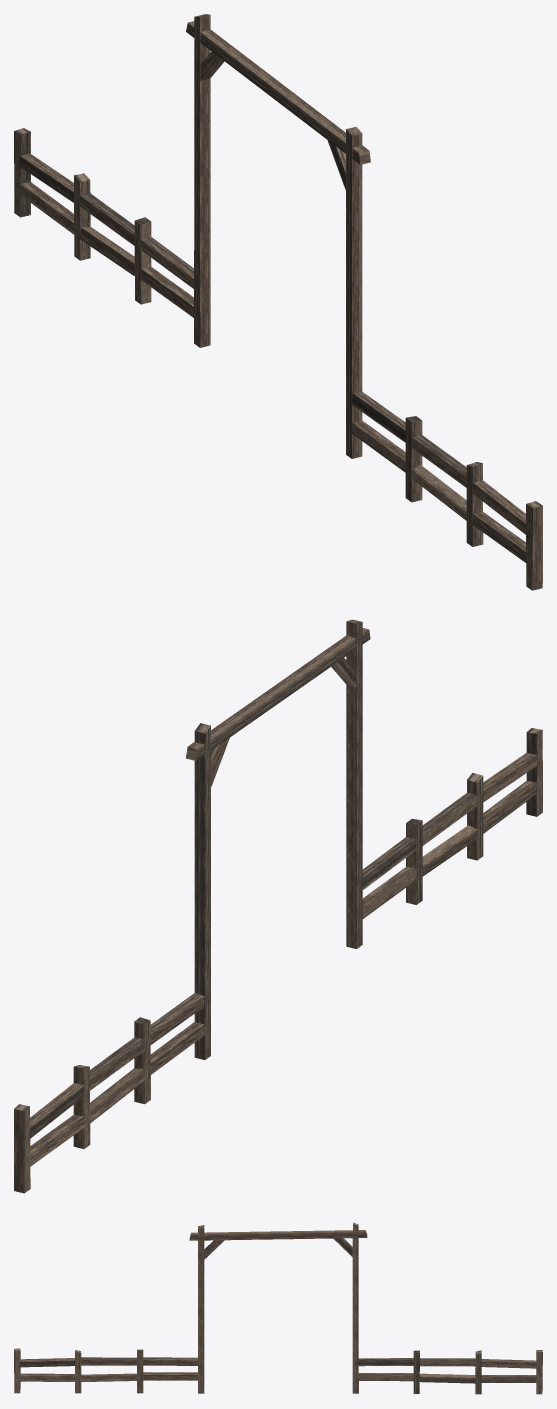
The model's file is gate.gltf.
3 views of the same model, one above another, from view 1: azimuth 30°, elevation 25°; view 2: azimuth 150°, elevation 25°; view 3: azimuth 270°, elevation 25° (orthographic). The views are drawn at different scales.
Bounding box in the file's own units: 0.2325 × 6.04 × 17.11.
1 material, 1 textured.
